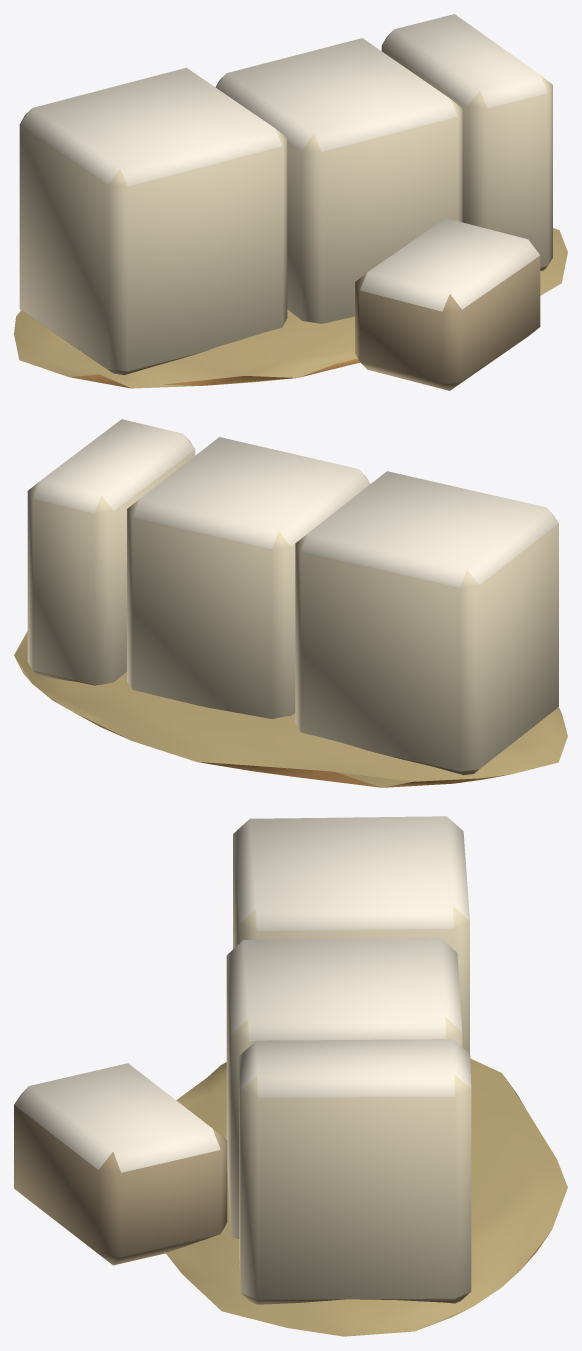
File: MarbleLow.fbx
3 views of the same model, one above another, from view 1: azimuth 30°, elevation 25°; view 2: azimuth 150°, elevation 25°; view 3: azimuth 270°, elevation 25° (orthographic). The views are drawn at different scales.
Parts seen in each view (by area): view 1: MarbleLow; view 2: MarbleLow; view 3: MarbleLow.
Boxes of the visible parts, <box> form: MarbleLow: <box>14,14,567,390</box>; MarbleLow: <box>14,419,567,787</box>; MarbleLow: <box>14,816,567,1336</box>.
Bounding box in the file's own units: 1.73 × 0.6493 × 1.32.
1 material, 1 textured.
